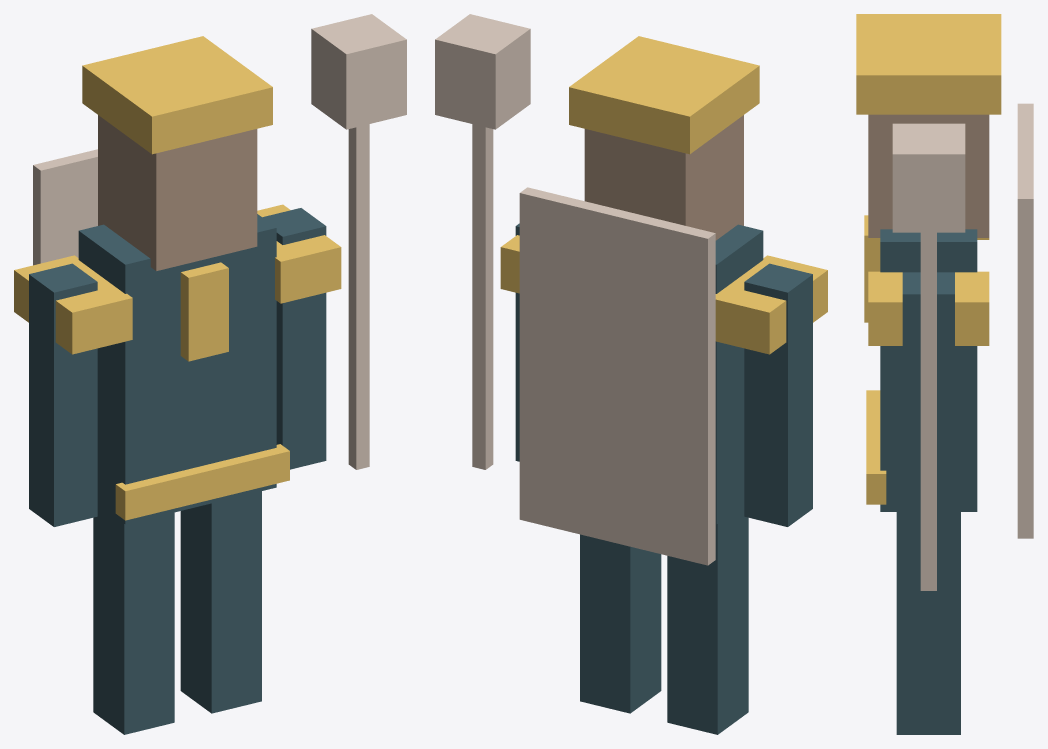
Rendered from 05_tamsin_chromabell_herald_near_mycelial.glb.
3 views of the same model, side by side, from view 1: azimuth 30°, elevation 25°; view 2: azimuth 150°, elevation 25°; view 3: azimuth 270°, elevation 25° (orthographic). The views are drawn at different scales.
Visible parts, largest first — view 1: Tamsin Chromabell, Herald near Mycelial; view 2: Tamsin Chromabell, Herald near Mycelial; view 3: Tamsin Chromabell, Herald near Mycelial.
Boxes of the visible parts, x1,y1,x2,y2 form: Tamsin Chromabell, Herald near Mycelial: (14,14,406,734); Tamsin Chromabell, Herald near Mycelial: (435,14,827,734); Tamsin Chromabell, Herald near Mycelial: (856,14,1033,734).
Bounding box in the file's own units: 0.9897 × 1.71 × 0.4208.
